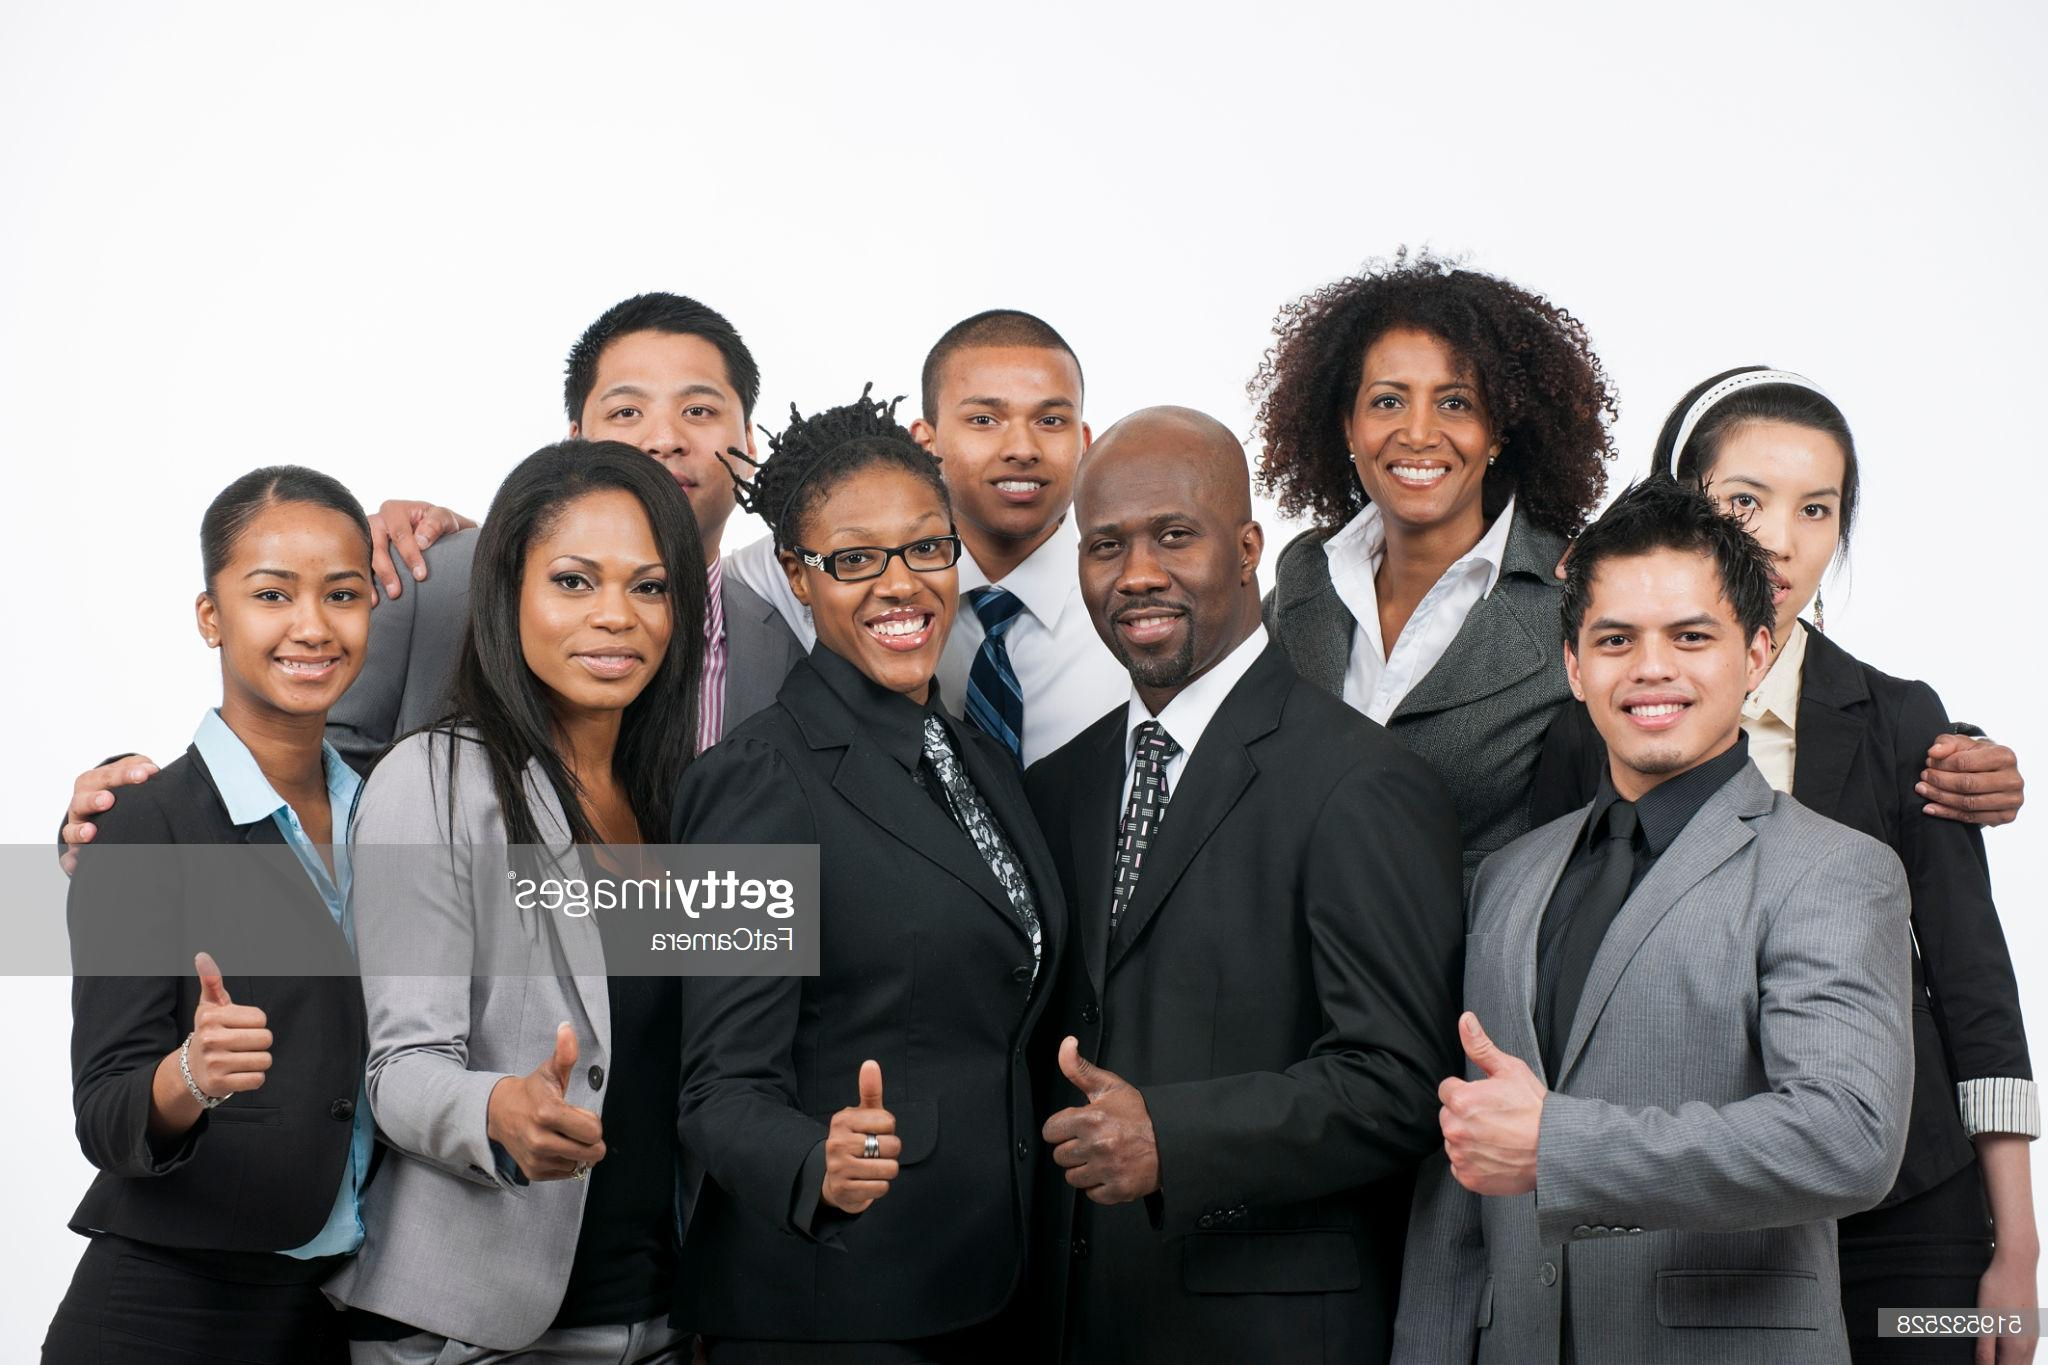thumbsup: (1436, 1010, 1520, 1197), (1042, 1033, 1130, 1207), (524, 1021, 608, 1182), (825, 1057, 903, 1204), (193, 952, 274, 1092)
